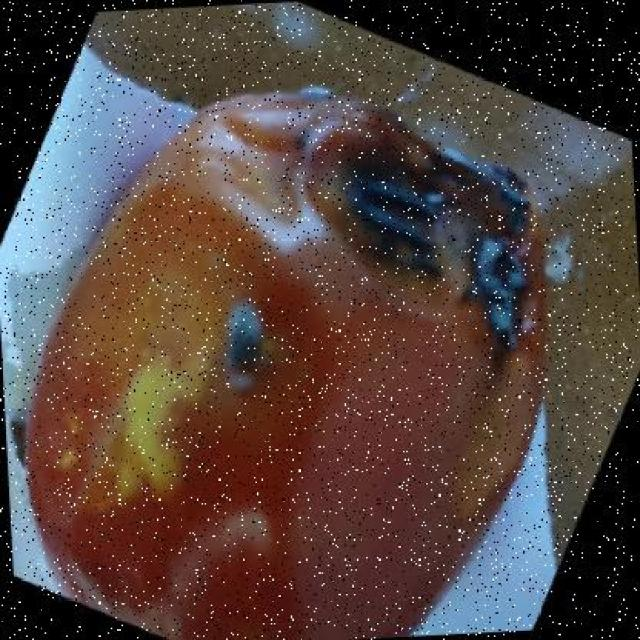overripe tomato: (16, 83, 558, 640)
